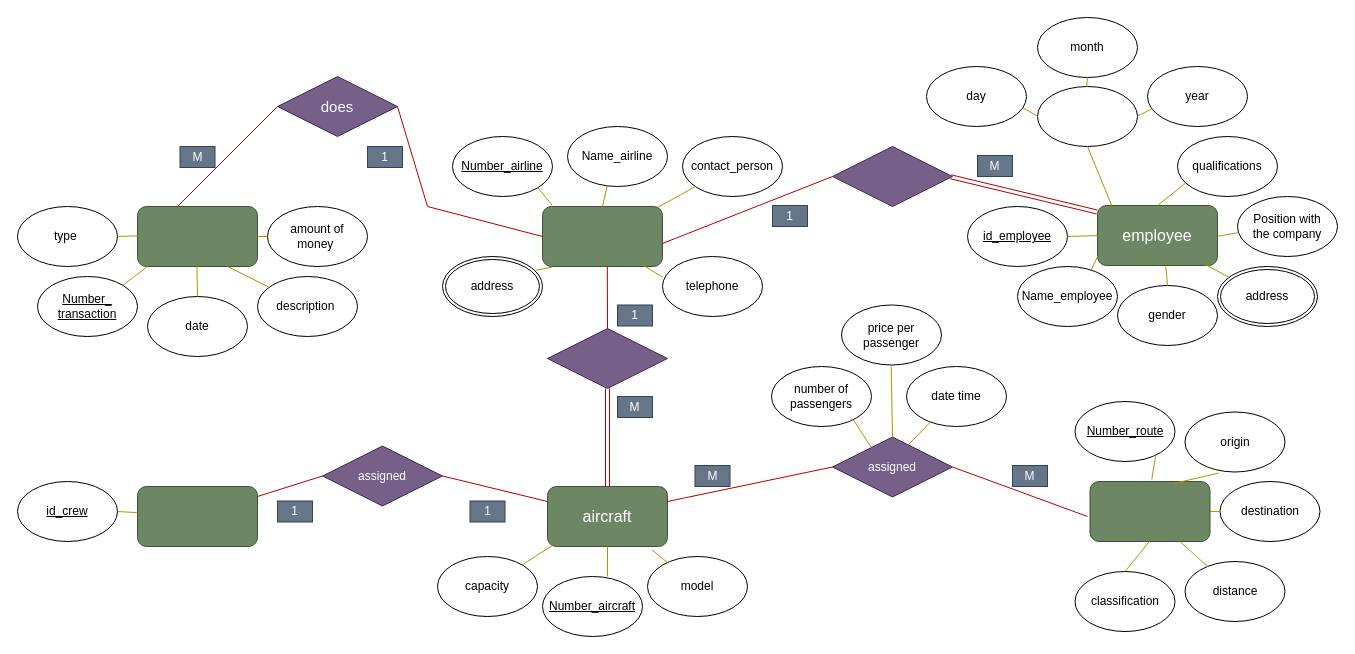
The diagram is 1355 pixels wide and 654 high, and some of its shapes have lost their labels. The shapes that lost their labels are listed below. From the top down, each one's centre as x and y in pixels, then its label:
the point at 1087,116: birthday
the point at 892,176: Works
the point at 197,236: transaction
the point at 602,236: airline
the point at 607,358: Owns
the point at 197,516: crew
the point at 1149,511: route
